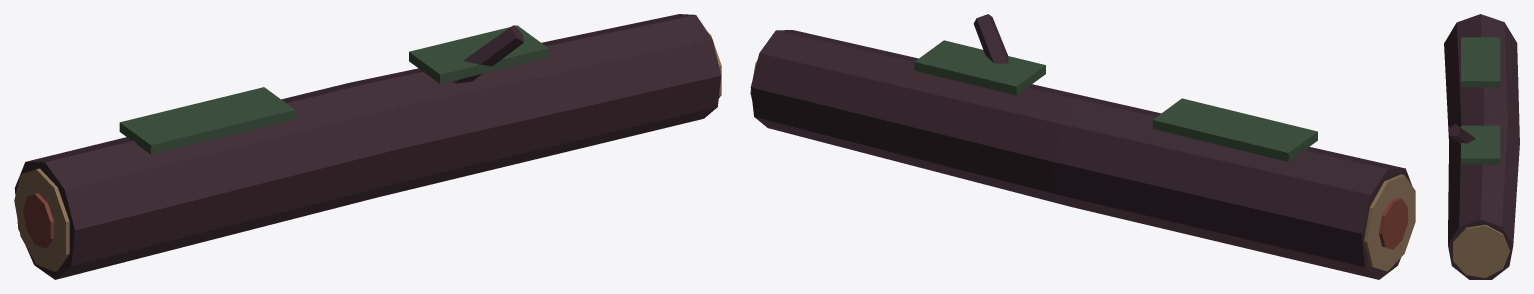
The model's file is trunchi_cazut.glb.
3 views of the same model, side by side, from view 1: azimuth 30°, elevation 25°; view 2: azimuth 150°, elevation 25°; view 3: azimuth 270°, elevation 25° (orthographic). The views are drawn at different scales.
Visible parts, largest first — view 1: Bustean; view 2: Bustean; view 3: Bustean.
Boxes of the visible parts, box(x1,y1,x2,y2) form: Bustean: box(14, 14, 721, 279); Bustean: box(750, 14, 1415, 279); Bustean: box(1444, 14, 1519, 279).
Size of the model in its own units: 3.66 by 0.8019 by 0.5824.
